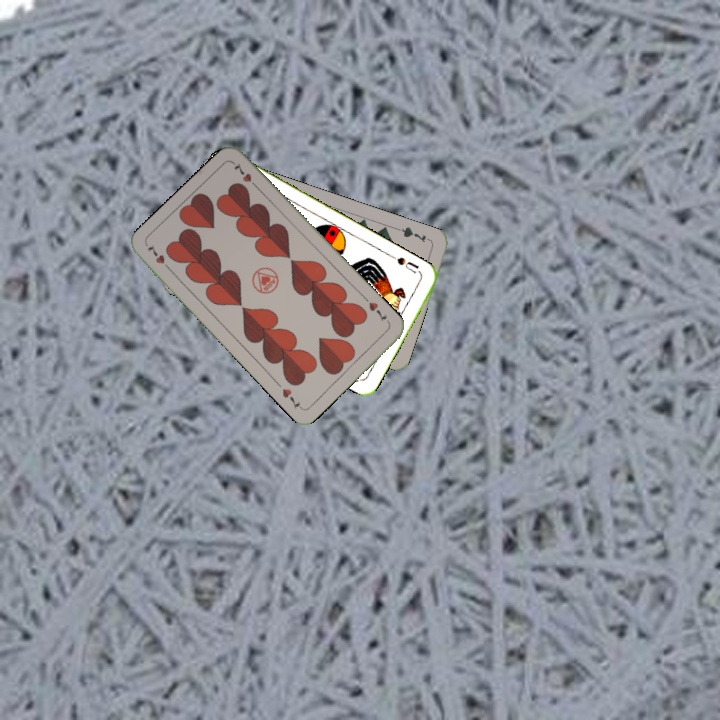G7: (394, 223, 434, 245)
H7: (143, 241, 174, 274), (365, 298, 389, 323)
SU: (387, 251, 424, 277)
